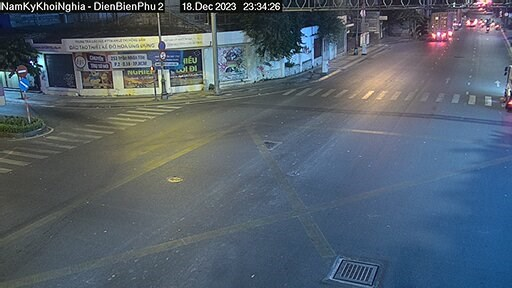truck: (428, 9, 458, 48)
